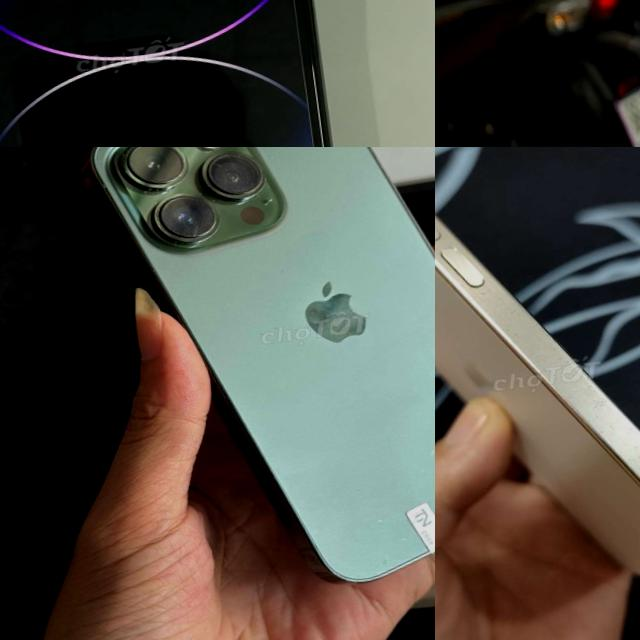scratch: (446, 265, 640, 498)
